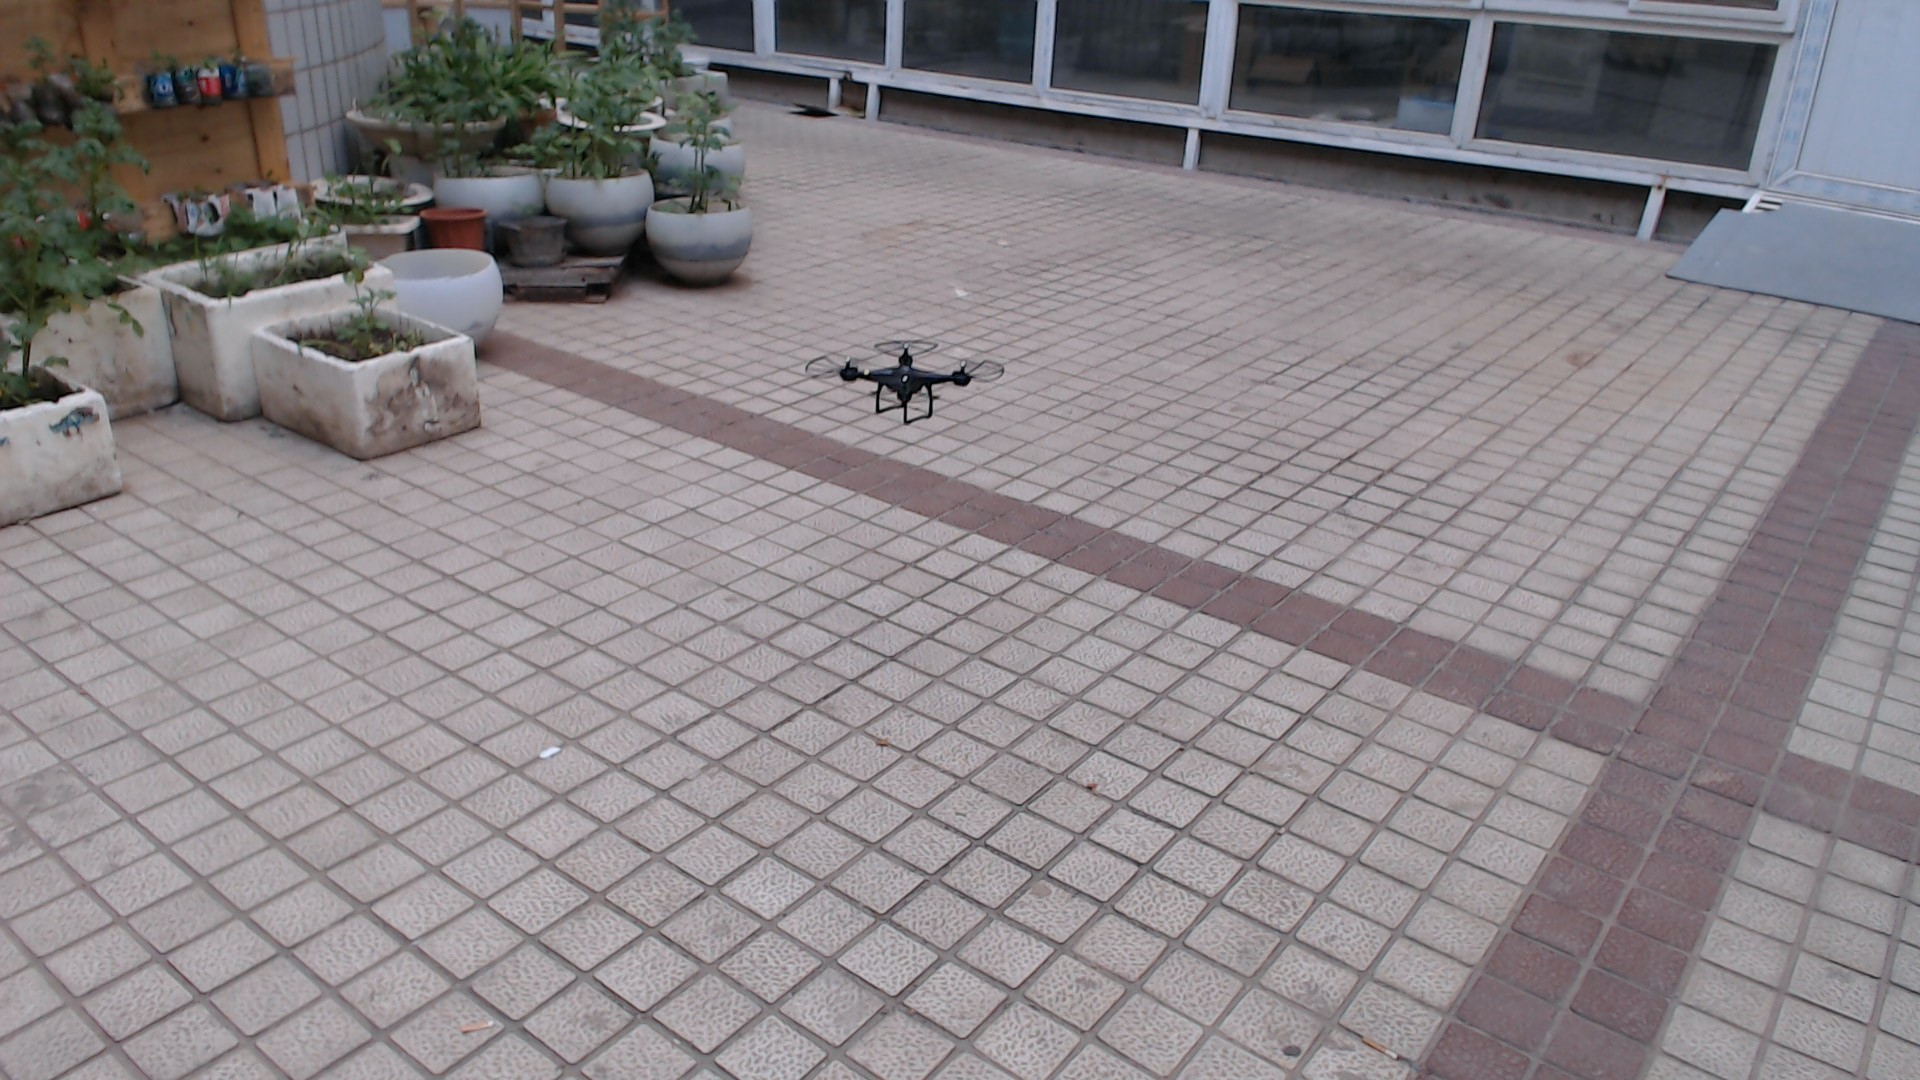drone: (778, 327, 1013, 427)
